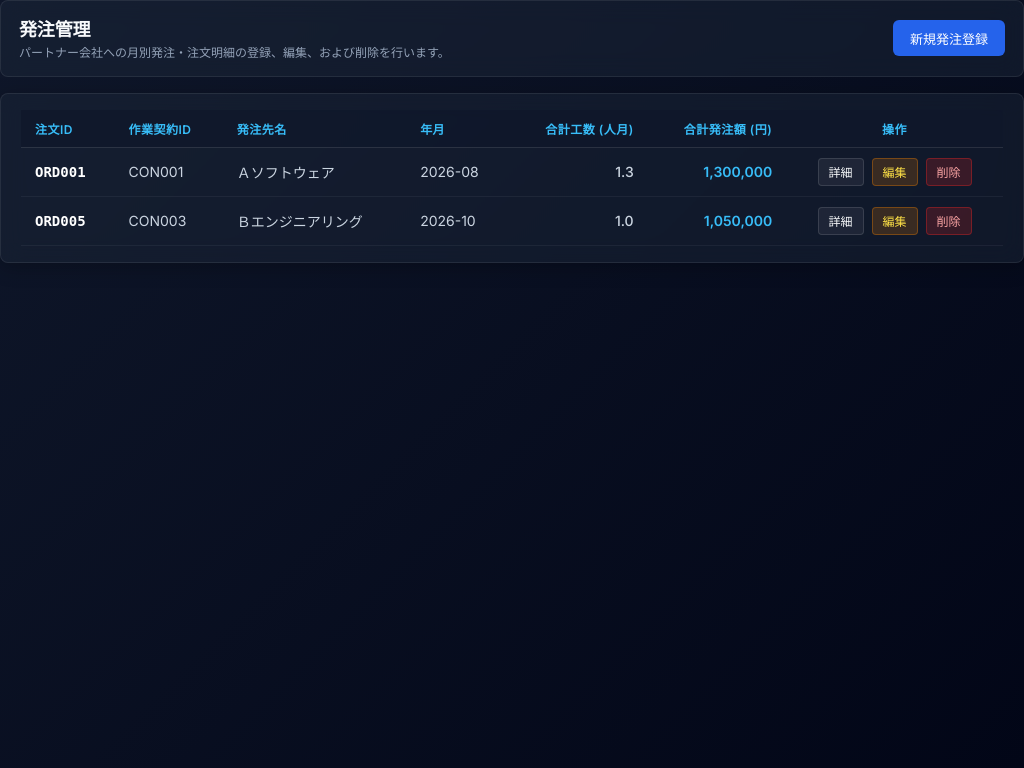
Test: PartnerOrderView (一覧表示と自動計算 UI) › 詳細ボタンをクリックすると、配下の注文明細が詳細テーブルに展開されて表示されること
Note: ORD001 の「詳細」ボタンをクリック
Click the button "詳細" in the row of "ORD001" at (841, 172), box [818,158,864,186]
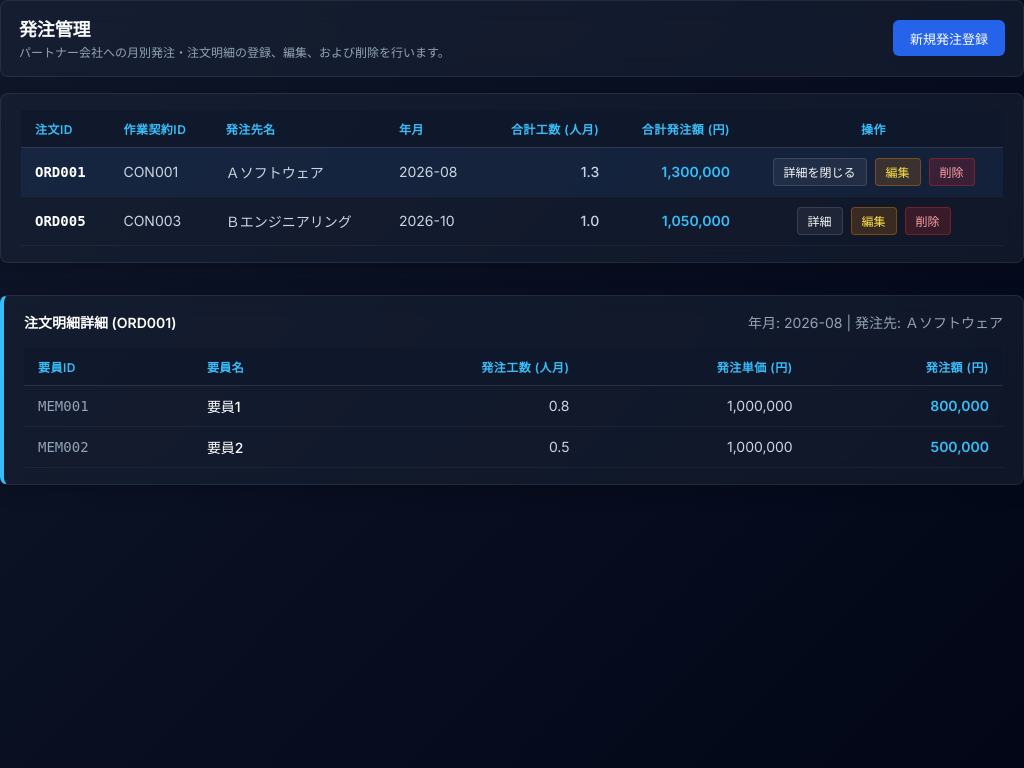
Expected: the text "注文明細詳細 (ORD001)" is shown, [24,312,176,332]
Expected: the text "要員1" is shown, [193,385,334,426]
Expected: the text "要員2" is shown, [193,426,334,467]
